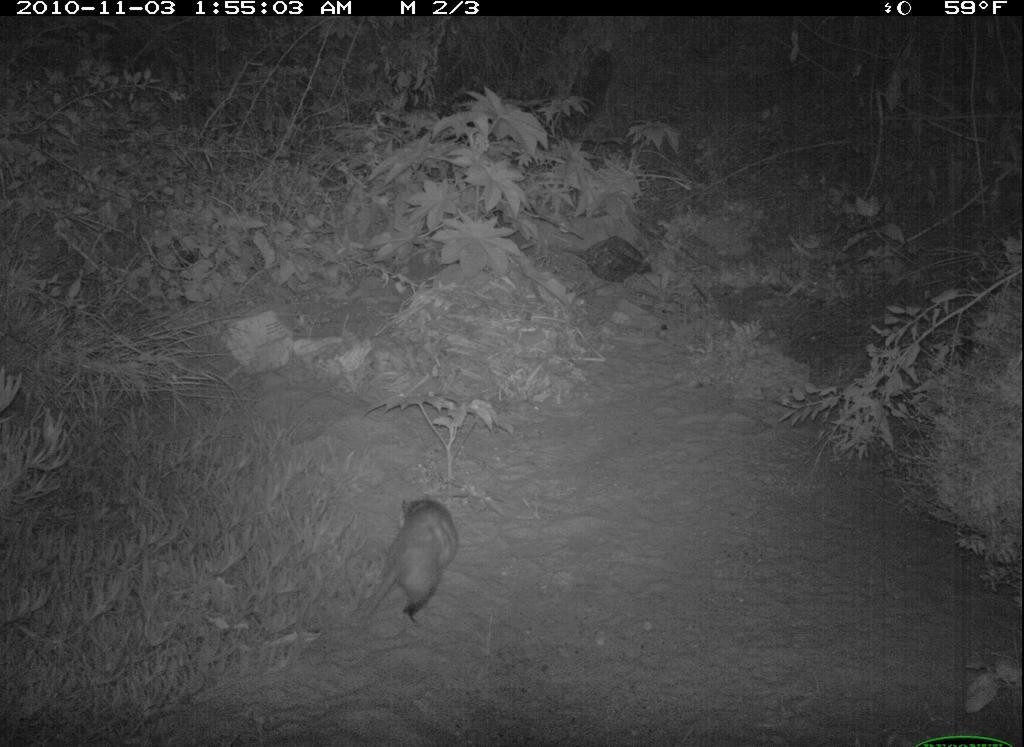opossum: (349, 492, 464, 641)
